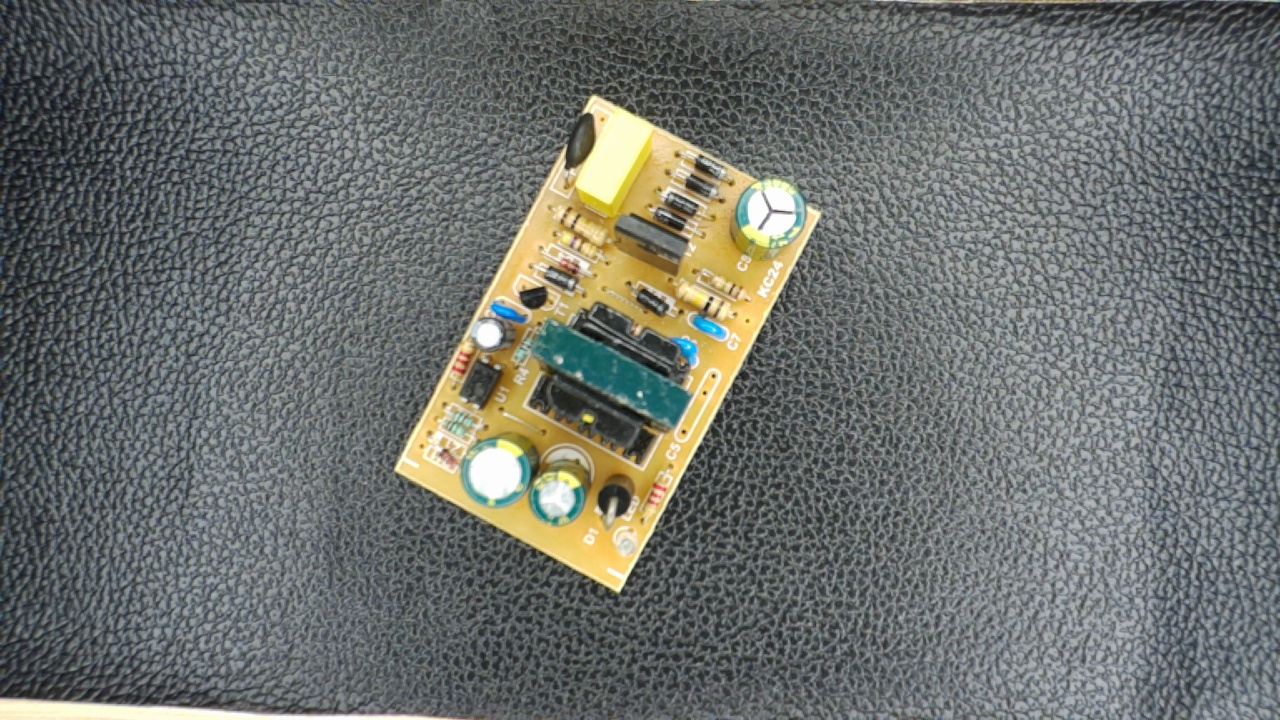fuse: (555, 108, 602, 188)
hv_capacitor: (731, 176, 810, 258)
optocoupler: (459, 345, 509, 416)
